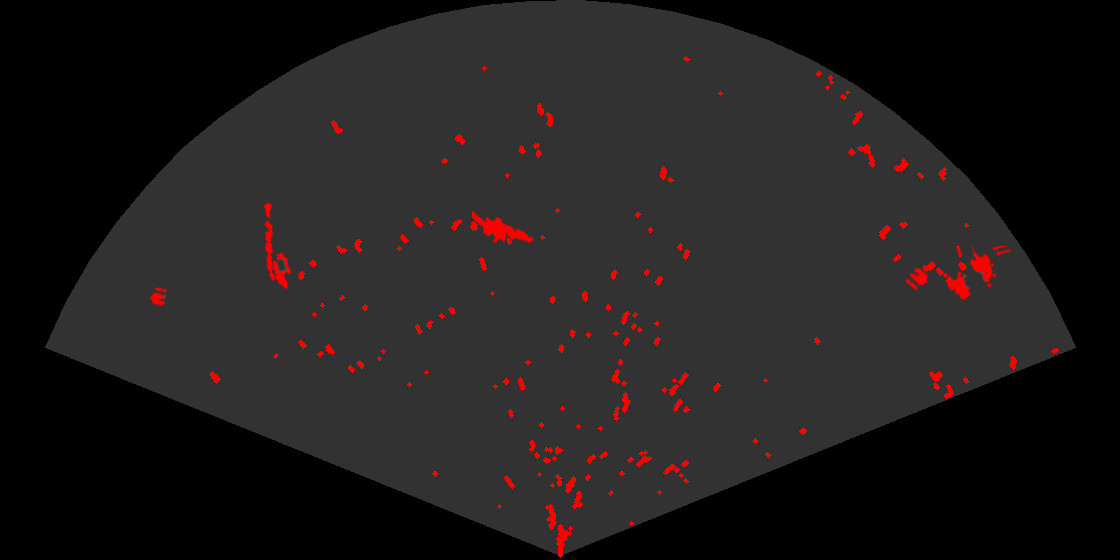AUV: (270, 251, 293, 291)
ball: (904, 266, 929, 292), (148, 285, 169, 308)
cage: (943, 246, 1010, 302)
chain: (262, 202, 276, 282)
frogman: (472, 209, 535, 245)
